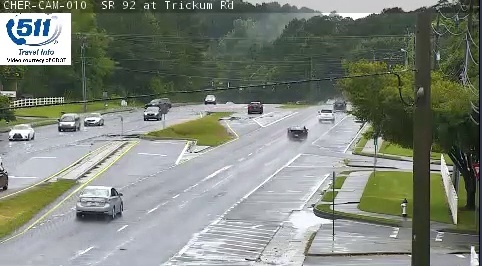car: (77, 185, 122, 215), (286, 125, 307, 140), (317, 109, 334, 122)
